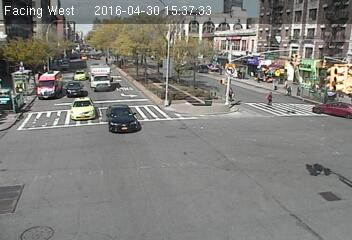neg: (318, 78, 339, 106), (275, 29, 292, 51), (229, 26, 245, 47), (313, 51, 326, 68)
pos: (266, 88, 280, 107), (223, 84, 236, 101), (295, 85, 305, 98), (285, 84, 294, 96)
